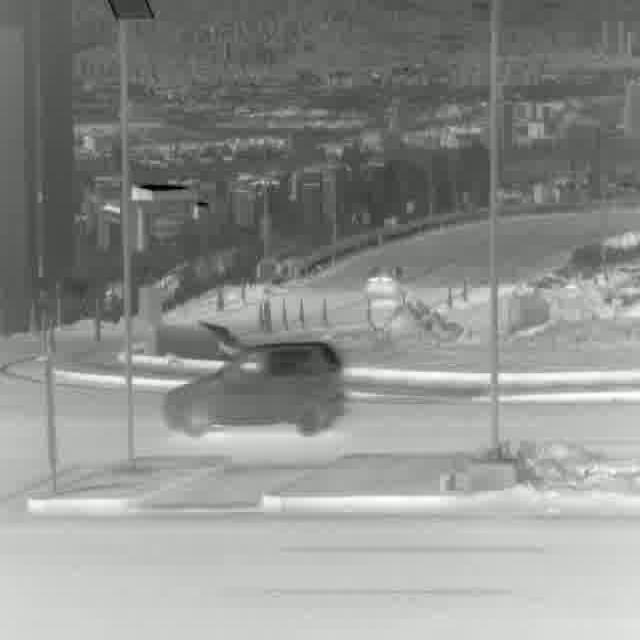Car: (164, 339, 345, 444)
